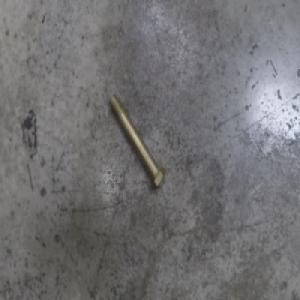Bolt: (107, 92, 166, 192)
